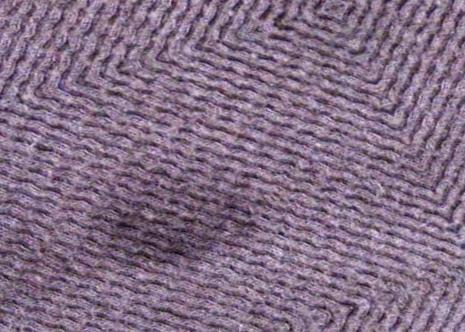stain: (101, 181, 257, 270)
